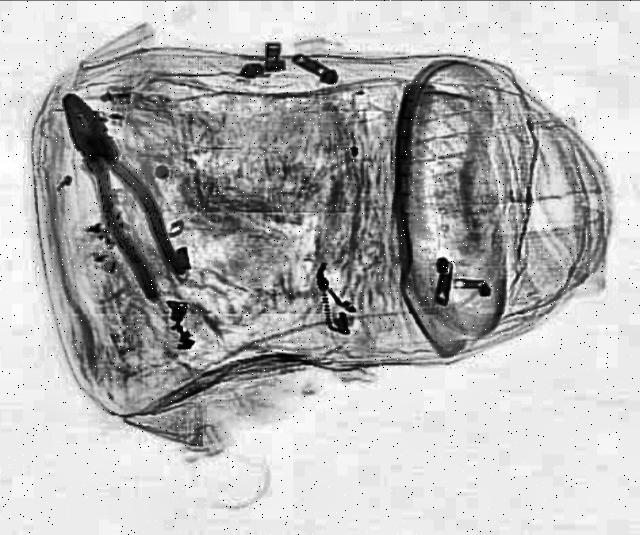Pliers: (48, 83, 198, 300)
